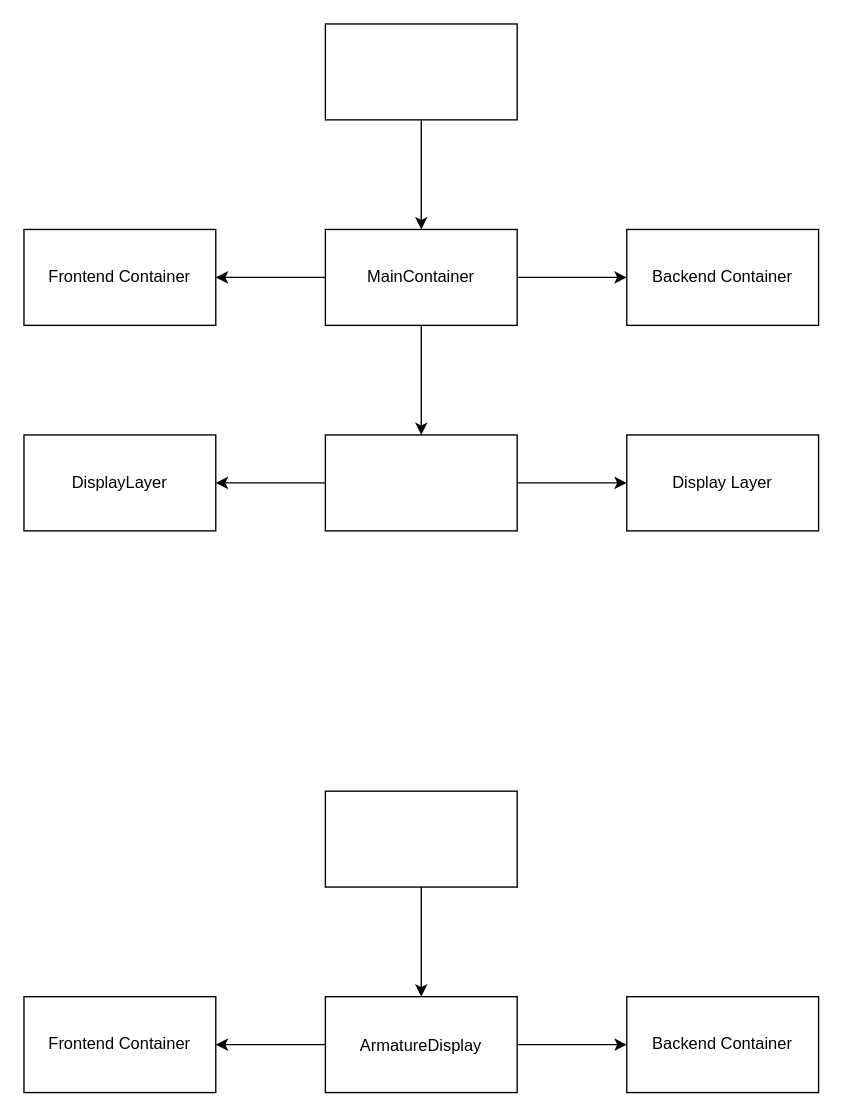
The diagram is 843 pixels wide and 1117 high, and some of its shapes have lost their labels. The box of each missing label's shape, as (x1, y1, x2, y2) in pixels:
DragonbonesDisplay: (324, 790, 517, 887)
FramesDisplay: (324, 23, 517, 120)
Mount Container: (324, 434, 517, 531)
